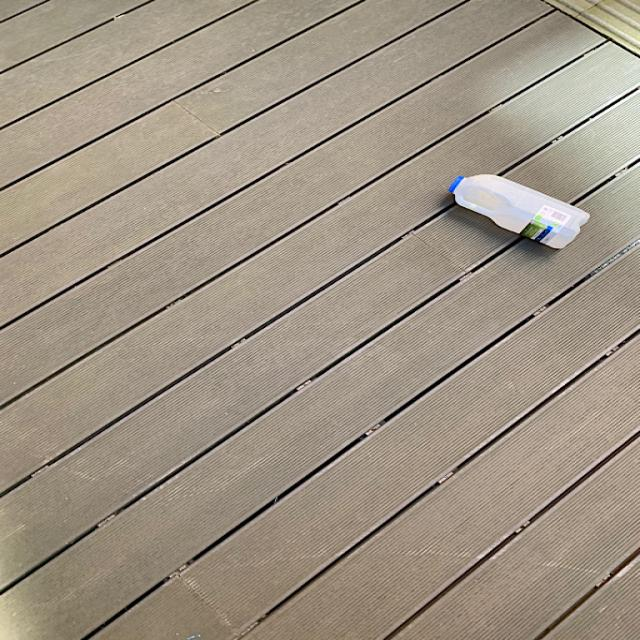litter: (446, 172, 596, 252)
